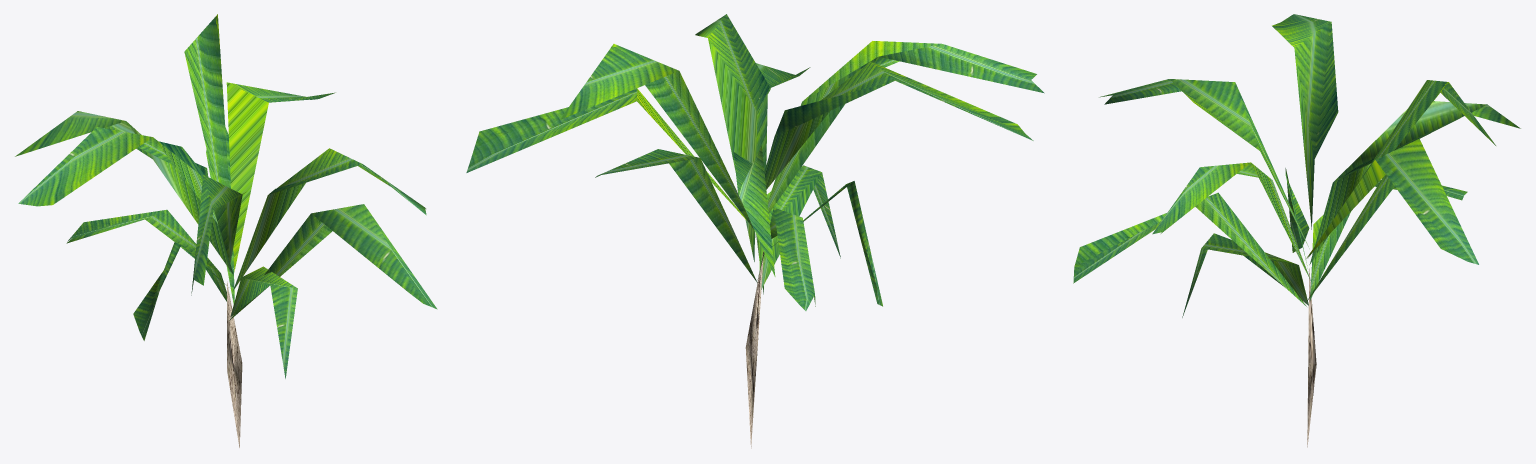
The model's file is Palm_lod_10.obj.
The picture shows the model from 3 angles, left to right: view 1: azimuth 30°, elevation 25°; view 2: azimuth 150°, elevation 25°; view 3: azimuth 270°, elevation 25°; orthographic projection. The views are drawn at different scales.
Size of the model in its own units: 34.1 by 31.4 by 32.59.
